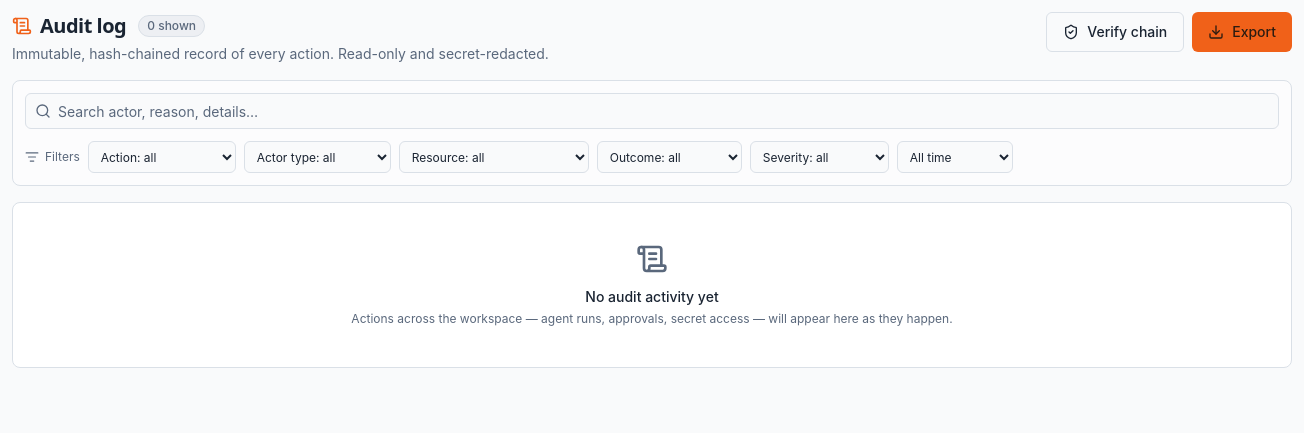
Test case: AuditView › shows the filtered-empty state when active filters match nothing
The image size is (1304, 433).
Expected: the element with test id "empty-audit" is shown, top-left (351, 243), bottom-right (953, 326)
Select "Severity: Critical" in the dropdown named "Severity" at (819, 157), box top-left (750, 141), bottom-right (889, 173)
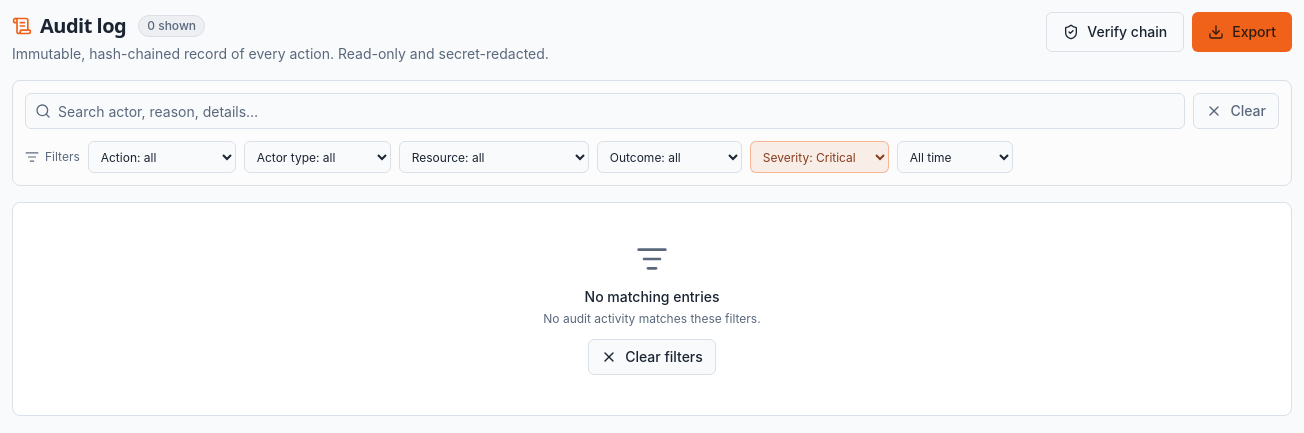
Expected: the element with test id "empty-filtered" is shown, top-left (543, 243), bottom-right (761, 375)
